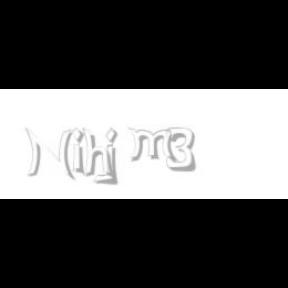3: (166, 128, 198, 172)
N: (24, 128, 74, 180)
h: (82, 128, 118, 180)
i: (72, 128, 88, 176)
j: (102, 128, 132, 186)
m: (127, 128, 179, 162)
